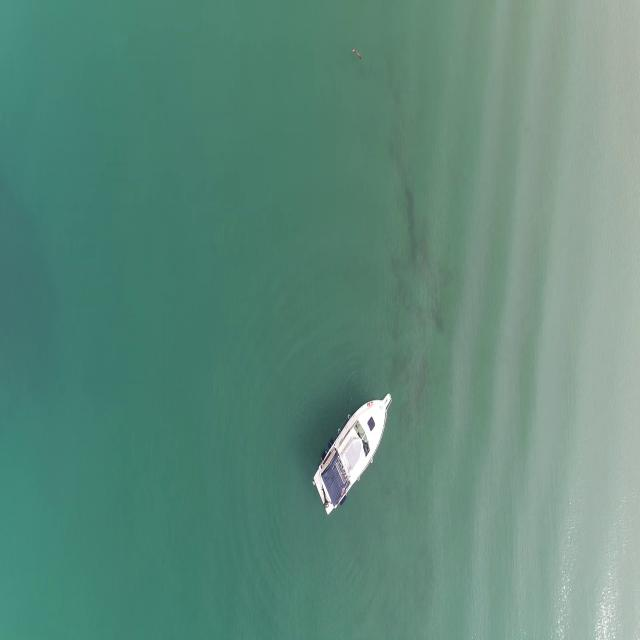boat: (315, 390, 391, 522)
wood: (352, 47, 364, 61)
